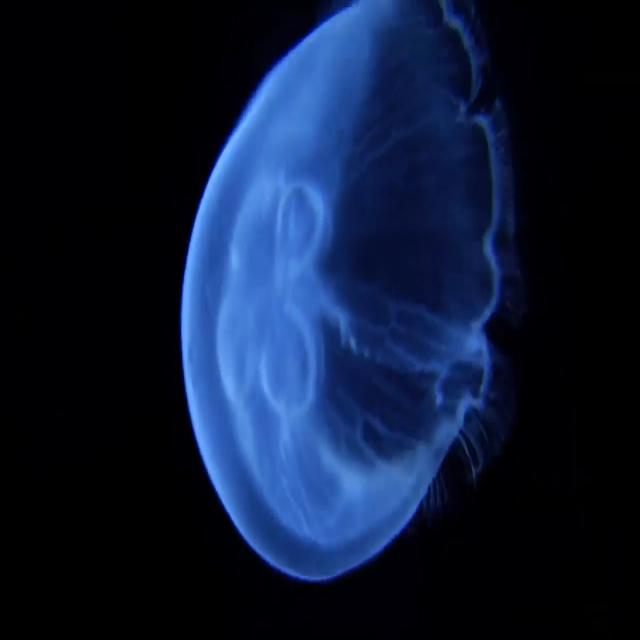Moon-jellyfish: (179, 0, 528, 587)
